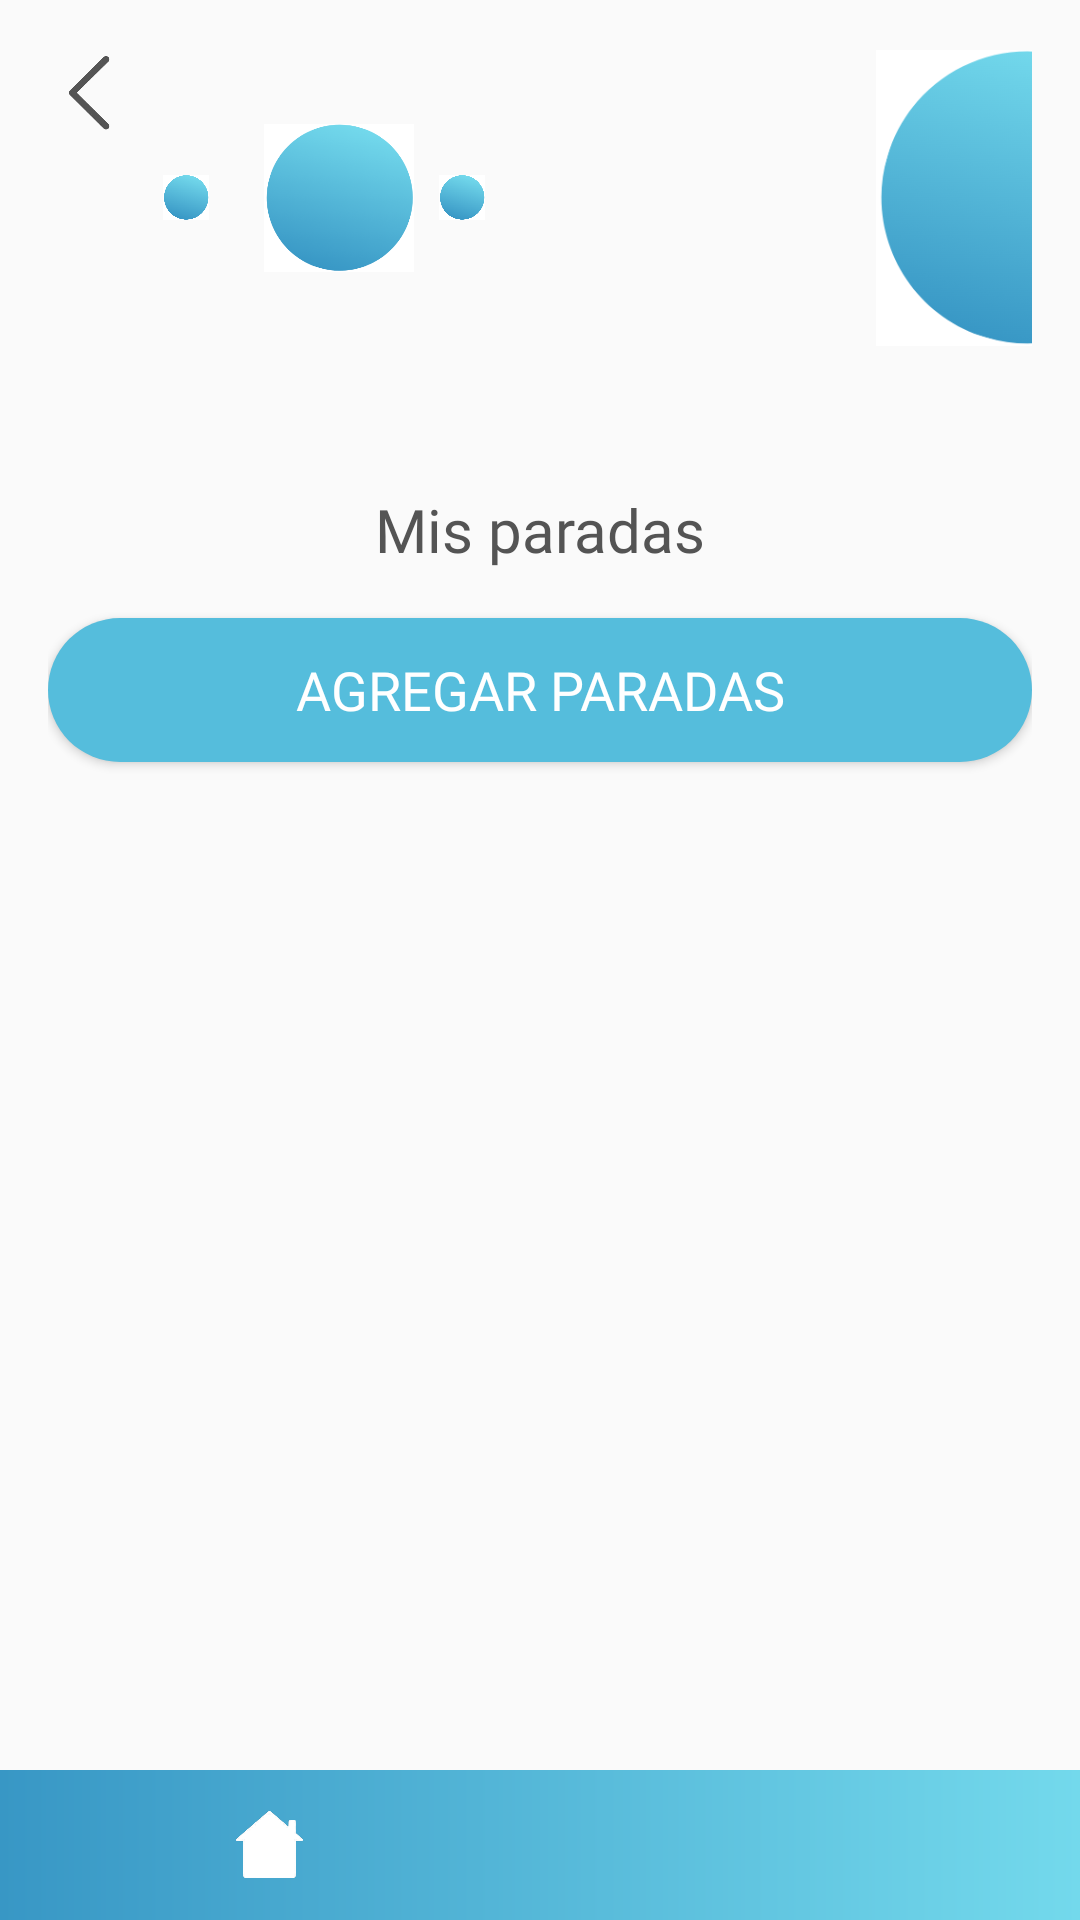

Icon bounding boxes for this 1080*1920 phone screenshot, format {"x1": x1, "y1": y1, "x2": x2, "y2": y2}:
back arrow: {"x1": 69, "y1": 56, "x2": 109, "y2": 130}
Inicio: {"x1": 236, "y1": 1811, "x2": 303, "y2": 1878}
